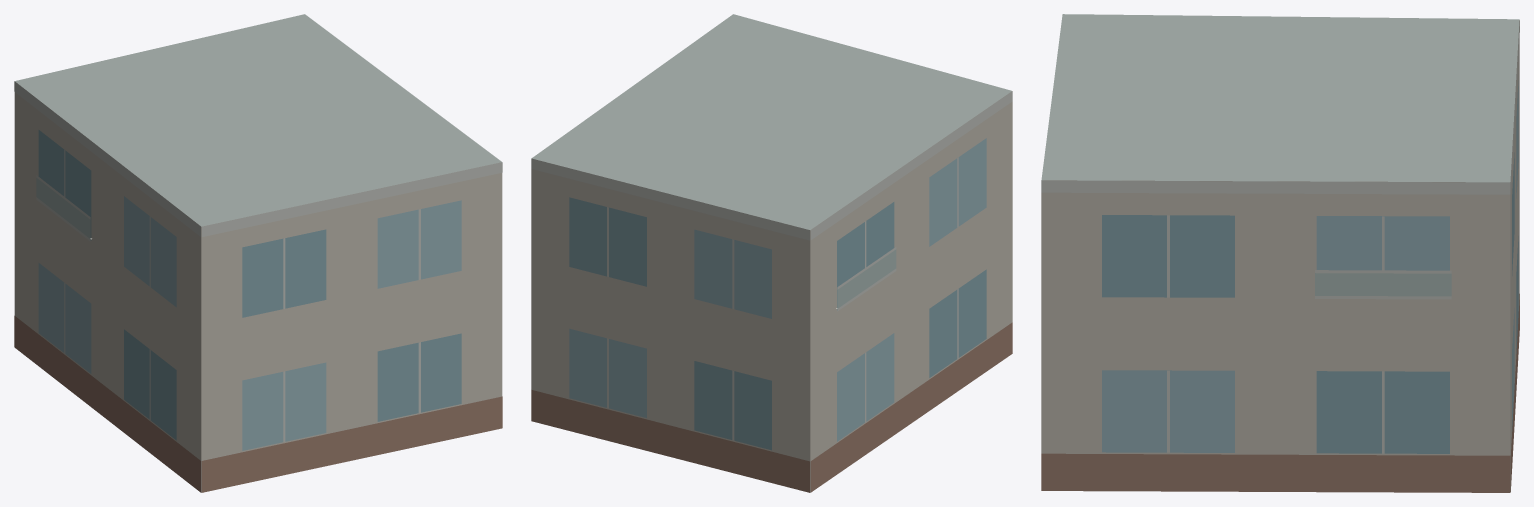
Rendered from survey-upis-32870479.glb.
3 views of the same model, side by side, from view 1: azimuth 30°, elevation 25°; view 2: azimuth 150°, elevation 25°; view 3: azimuth 270°, elevation 25° (orthographic). The views are drawn at different scales.
Visible parts, largest first — view 1: survey-upis-32870479.tmp; view 2: survey-upis-32870479.tmp; view 3: survey-upis-32870479.tmp.
Part boxes in pixels (x1,y1,x2,y2): survey-upis-32870479.tmp: (14, 14, 502, 492); survey-upis-32870479.tmp: (531, 14, 1012, 492); survey-upis-32870479.tmp: (1041, 14, 1519, 492).
Size of the model in its own units: 7.12 by 6.1 by 8.52.
